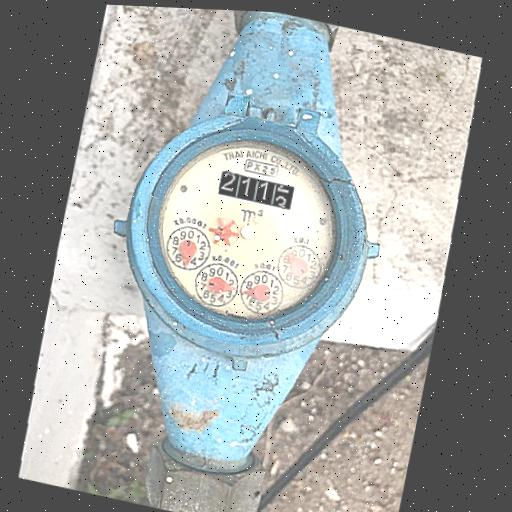1: (236, 174, 257, 202), (254, 179, 275, 205)
2: (271, 183, 295, 210), (218, 170, 240, 198)
border_water_meter_number: (216, 169, 295, 211)
